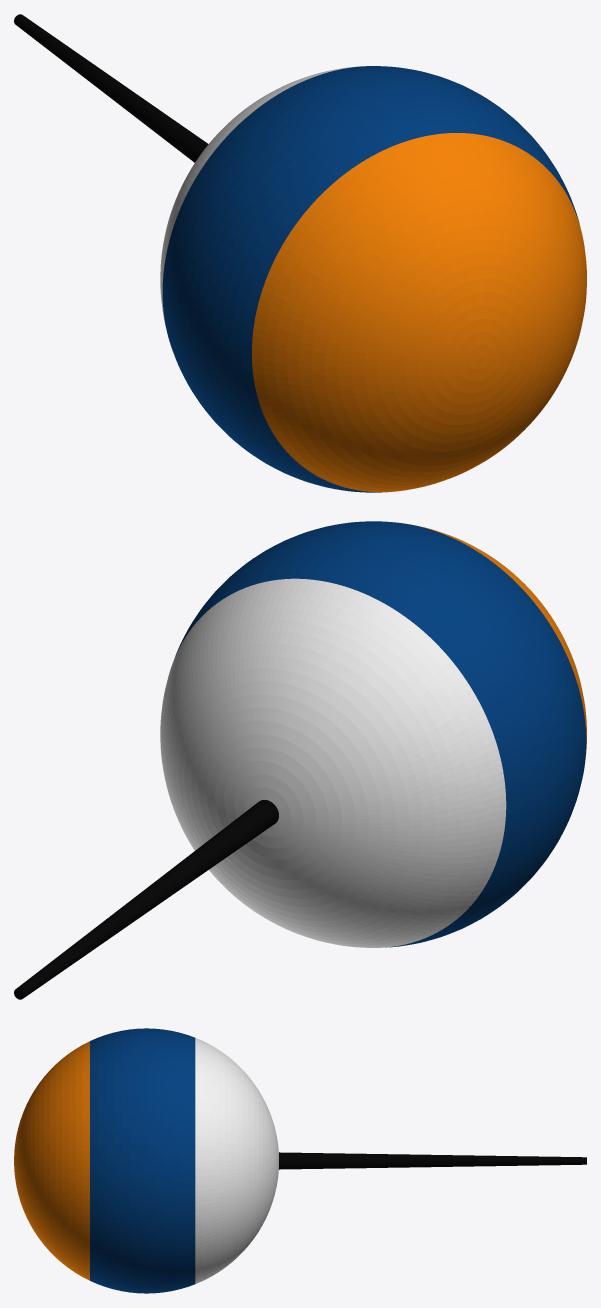
File: singaporeS.glb
3 views of the same model, one above another, from view 1: azimuth 30°, elevation 25°; view 2: azimuth 150°, elevation 25°; view 3: azimuth 270°, elevation 25° (orthographic). The views are drawn at different scales.
Parts seen in each view (by area): view 1: Sphere.013; view 2: Sphere.013; view 3: Sphere.013.
Part boxes in pixels (x1,y1,x2,y2): Sphere.013: (14,14,586,492); Sphere.013: (14,521,586,999); Sphere.013: (14,1028,586,1293).
Size of the model in its own units: 0.9998 by 1 by 2.16.
